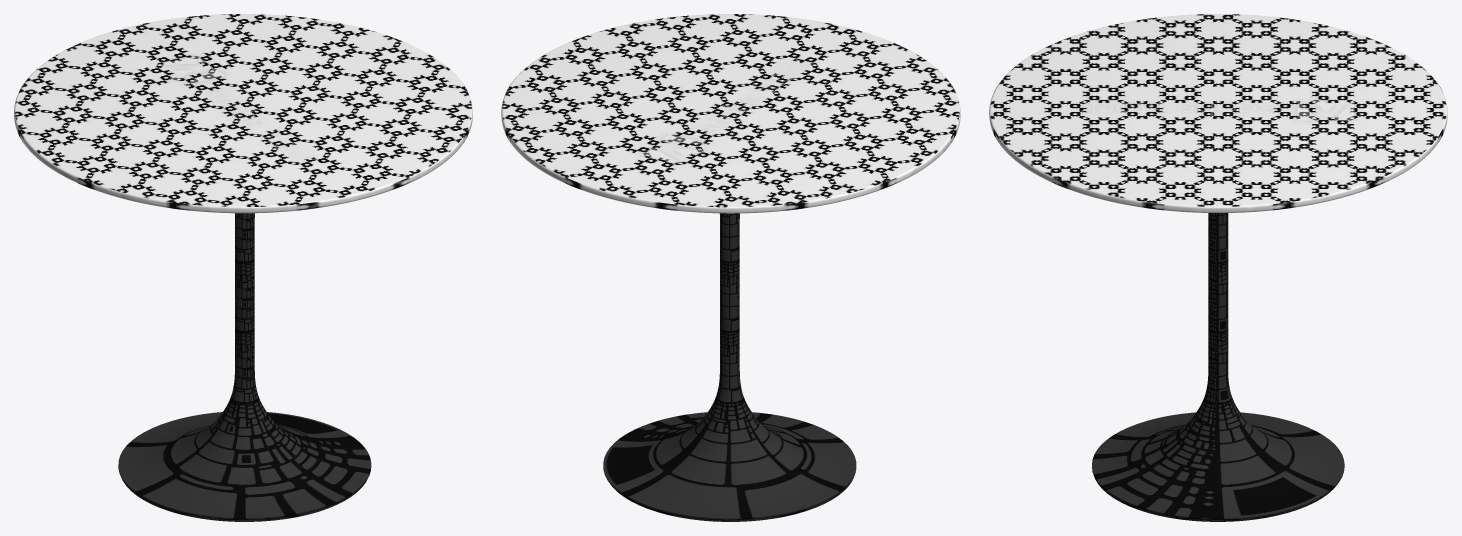
Rendered from whiteblackstool.fbx.
3 views of the same model, side by side, from view 1: azimuth 30°, elevation 25°; view 2: azimuth 150°, elevation 25°; view 3: azimuth 270°, elevation 25° (orthographic).
Parts seen in each view (by area): view 1: Cylinder004, Line016, Cylinder006; view 2: Cylinder004, Line016, Cylinder006; view 3: Cylinder004, Line016, Cylinder006.
Part boxes in pixels (bbox=[...]): Cylinder004: bbox=[14, 14, 472, 213]; Line016: bbox=[118, 213, 371, 519]; Cylinder006: bbox=[122, 480, 366, 521]; Cylinder004: bbox=[501, 14, 960, 213]; Line016: bbox=[603, 213, 856, 519]; Cylinder006: bbox=[612, 478, 853, 521]; Cylinder004: bbox=[989, 14, 1447, 212]; Line016: bbox=[1092, 213, 1344, 519]; Cylinder006: bbox=[1095, 479, 1336, 521].
Bounding box in the file's own units: 90 × 77.7 × 90.
3 materials, 3 textured.
